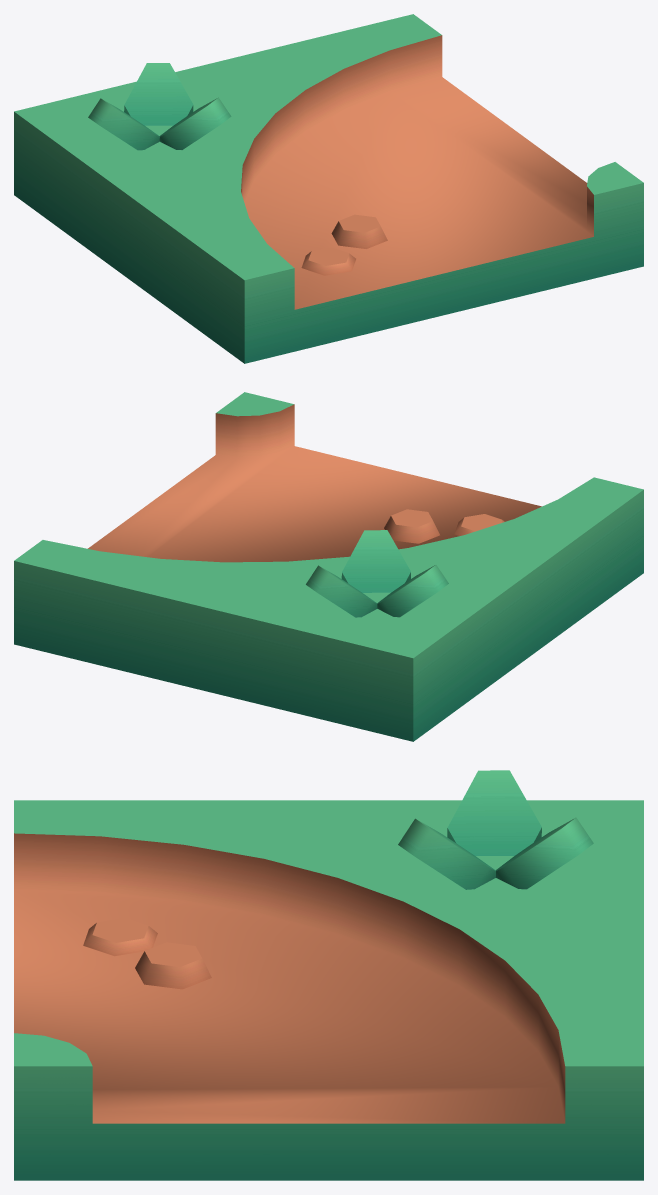
The model's file is kenney-tower-defense-tile-corner-round.glb.
3 views of the same model, one above another, from view 1: azimuth 30°, elevation 25°; view 2: azimuth 150°, elevation 25°; view 3: azimuth 270°, elevation 25° (orthographic). The views are drawn at different scales.
Parts seen in each view (by area): view 1: tile-corner-round; view 2: tile-corner-round; view 3: tile-corner-round.
Part boxes in pixels (left/top/right/bottom): tile-corner-round: left=14, top=14, right=643, bottom=363; tile-corner-round: left=14, top=392, right=643, bottom=741; tile-corner-round: left=14, top=770, right=643, bottom=1180.
Bounding box in the file's own units: 1 × 0.2961 × 1.
Materials: 1 (1 with a texture image).
